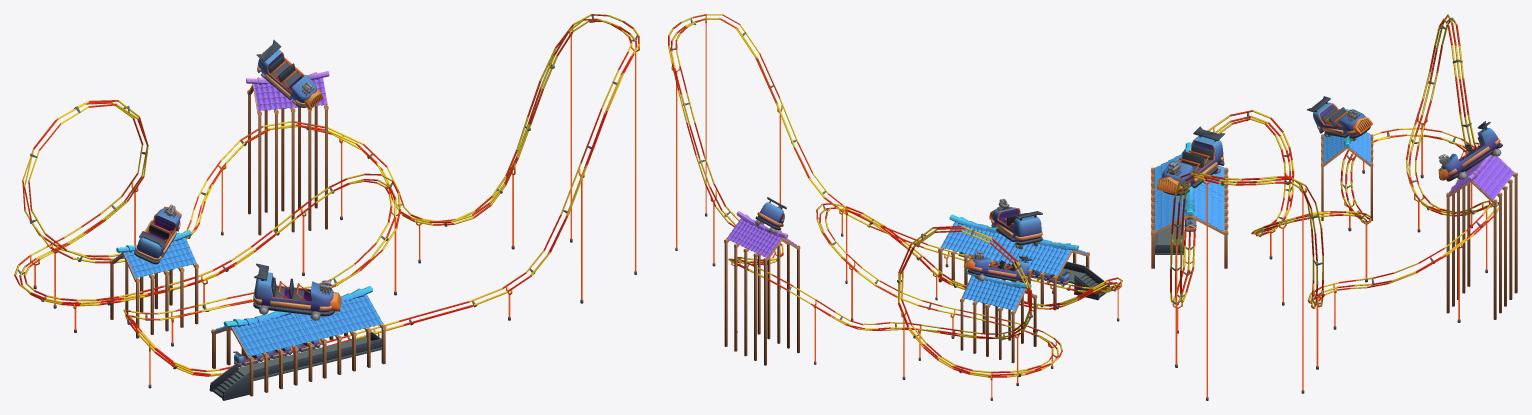
The model's file is lpb_ride_rolercoaster.fbx.
3 views of the same model, side by side, from view 1: azimuth 30°, elevation 25°; view 2: azimuth 150°, elevation 25°; view 3: azimuth 270°, elevation 25° (orthographic). The views are drawn at different scales.
Parts seen in each view (by area): view 1: coaster, rc_d_4, rc_d_1, rc_d_3, rc_d_2, rc_stair, rc_d_5, rc_d_6, rc_d_7; view 2: coaster, rc_d_4, rc_d_3, rc_d_1, rc_d_2, rc_d_5, rc_d_7, rc_stair, rc_d_6; view 3: coaster, rc_d_4, rc_d_2, rc_d_5, rc_d_7, rc_d_6, rc_d_3, rc_d_1, rc_stair.
Boxes of the visible parts, x1,y1,x2,y2 form: coaster: (14, 14, 639, 388); rc_d_4: (246, 71, 329, 235); rc_d_1: (211, 311, 321, 396); rc_d_3: (109, 230, 198, 338); rc_d_2: (308, 286, 386, 378); rc_stair: (209, 332, 382, 400); rc_d_5: (253, 263, 341, 320); rc_d_6: (256, 39, 323, 109); rc_d_7: (134, 204, 181, 264); coaster: (668, 14, 1122, 400); rc_d_4: (724, 211, 800, 365); rc_d_3: (960, 269, 1037, 363); rc_d_1: (993, 238, 1089, 310); rc_d_2: (938, 214, 1005, 288); rc_d_5: (989, 198, 1042, 249); rc_d_7: (963, 251, 1032, 283); rc_stair: (958, 252, 1109, 300); rc_d_6: (754, 197, 786, 232); coaster: (1170, 14, 1498, 400); rc_d_4: (1446, 155, 1517, 319); rc_d_2: (1151, 186, 1228, 268); rc_d_5: (1157, 126, 1224, 195); rc_d_7: (1307, 96, 1372, 141); rc_d_6: (1438, 121, 1502, 181); rc_d_3: (1321, 109, 1373, 220); rc_d_1: (1151, 142, 1228, 202); rc_stair: (1155, 221, 1183, 254).
Size of the model in its own units: 58.89 by 25.07 by 36.97.
